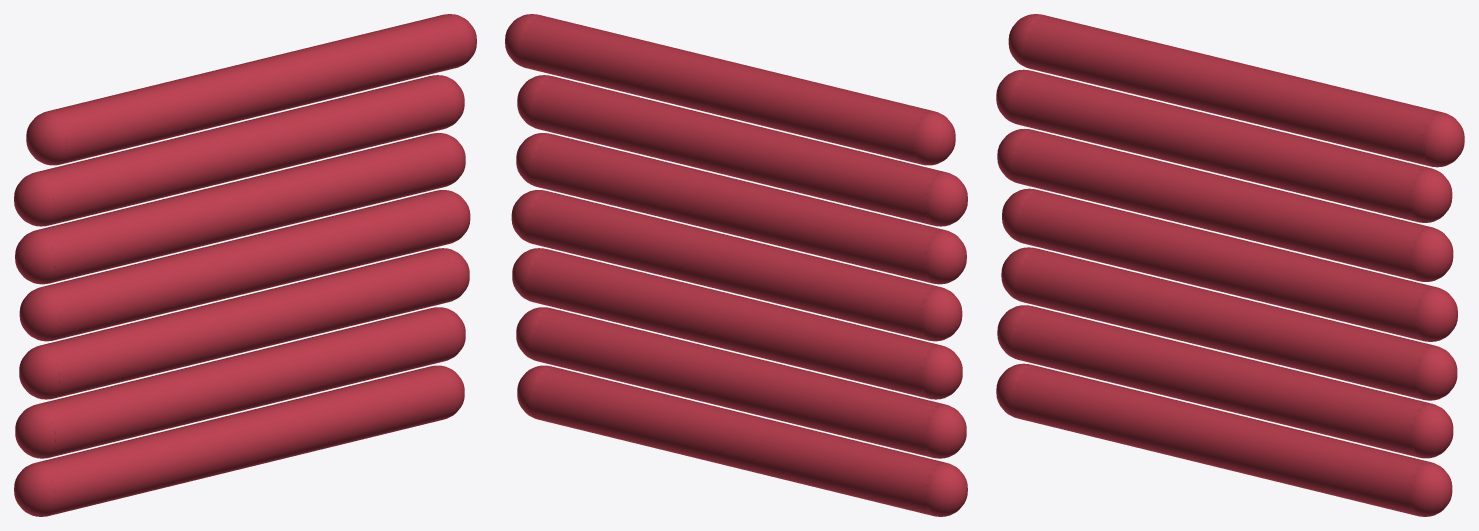
The model's file is muscle.glb.
3 views of the same model, side by side, from view 1: azimuth 30°, elevation 25°; view 2: azimuth 150°, elevation 25°; view 3: azimuth 330°, elevation 25° (orthographic).
Visible parts, largest first — view 1: Fiber_1, Fiber_0, Fiber_5, Fiber_2, Fiber_6, Fiber_3, Fiber_4; view 2: Fiber_1, Fiber_0, Fiber_5, Fiber_2, Fiber_6, Fiber_3, Fiber_4; view 3: Fiber_1, Fiber_2, Fiber_5, Fiber_0, Fiber_4, Fiber_6, Fiber_3.
Part boxes in pixels (bbox=[...]): Fiber_1: bbox=[15, 307, 465, 458]; Fiber_0: bbox=[14, 365, 464, 516]; Fiber_5: bbox=[14, 75, 464, 226]; Fiber_2: bbox=[19, 248, 469, 399]; Fiber_6: bbox=[26, 14, 476, 165]; Fiber_3: bbox=[19, 190, 470, 341]; Fiber_4: bbox=[15, 133, 465, 284]; Fiber_1: bbox=[516, 307, 966, 458]; Fiber_0: bbox=[517, 365, 967, 516]; Fiber_5: bbox=[517, 75, 967, 226]; Fiber_2: bbox=[512, 248, 962, 399]; Fiber_6: bbox=[505, 14, 955, 165]; Fiber_3: bbox=[511, 190, 962, 341]; Fiber_4: bbox=[516, 133, 966, 284]; Fiber_1: bbox=[997, 305, 1453, 458]; Fiber_2: bbox=[1001, 247, 1457, 400]; Fiber_5: bbox=[996, 69, 1452, 222]; Fiber_0: bbox=[996, 363, 1452, 516]; Fiber_4: bbox=[997, 129, 1453, 281]; Fiber_6: bbox=[1008, 14, 1464, 167]; Fiber_3: bbox=[1002, 188, 1457, 341].
Size of the model in its own units: 3.45 by 2.88 by 0.36.
